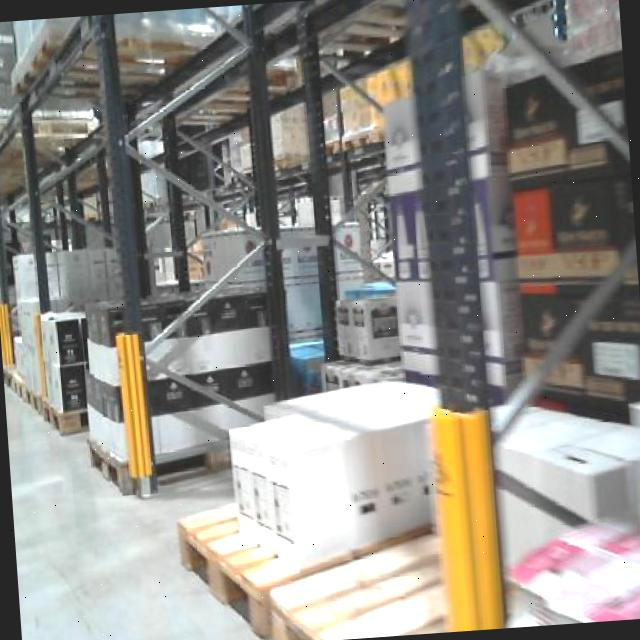pallet: (267, 529, 453, 640), (165, 493, 298, 640), (80, 422, 245, 503), (40, 393, 94, 441)
